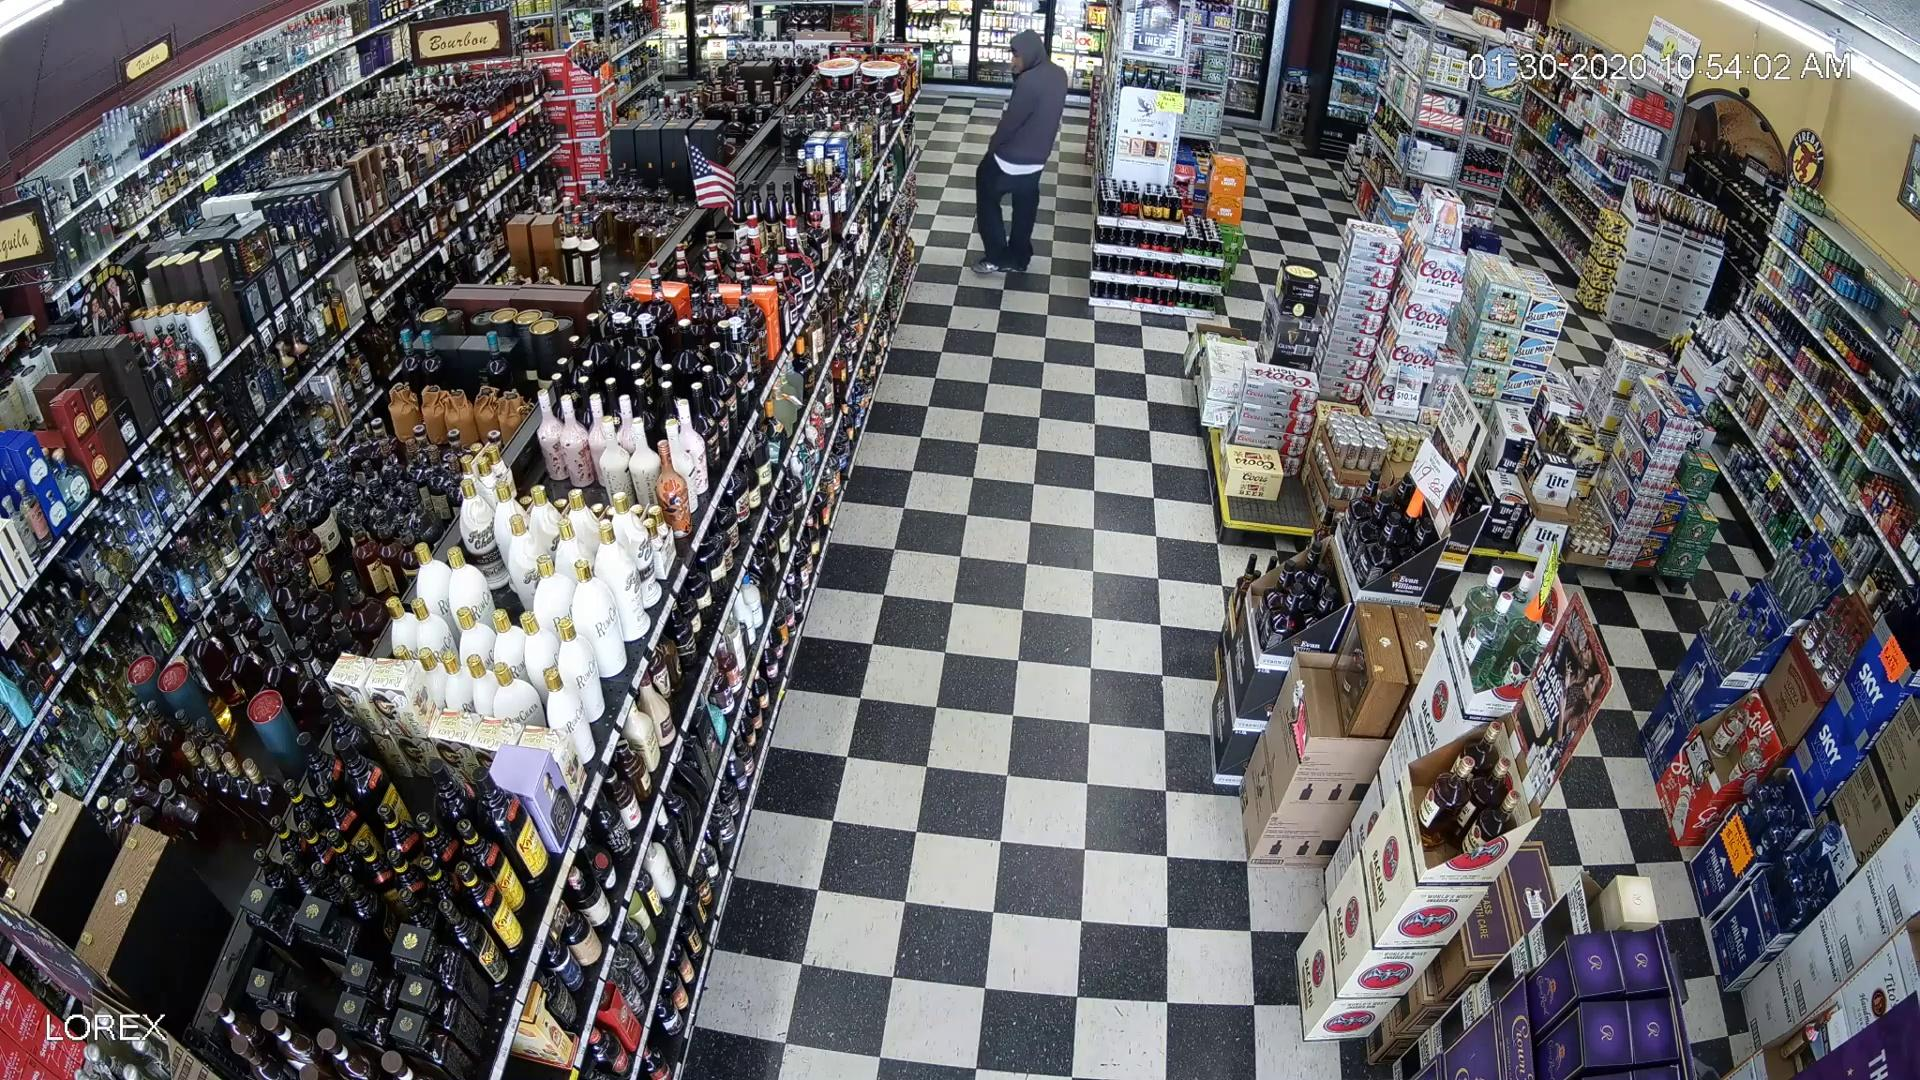Regular: (934, 1, 1126, 356)
